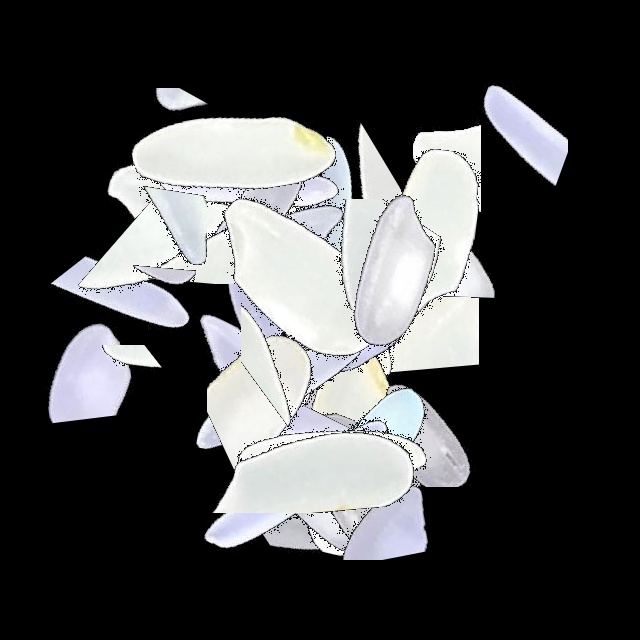Broken: (314, 318, 564, 487), (0, 212, 163, 462), (0, 246, 250, 401), (65, 196, 315, 349), (182, 360, 432, 513), (192, 355, 442, 506), (368, 96, 517, 346), (235, 199, 485, 344), (207, 270, 352, 520), (259, 357, 509, 501), (250, 418, 500, 560), (250, 368, 391, 618), (242, 320, 381, 570), (313, 127, 450, 377), (347, 178, 479, 428), (285, 109, 417, 359), (449, 16, 568, 266), (92, 165, 342, 284), (91, 121, 207, 371), (192, 175, 442, 284), (260, 345, 368, 595), (241, 219, 346, 469), (283, 335, 384, 585), (382, 52, 481, 302), (0, 265, 250, 362), (42, 88, 292, 178), (228, 336, 478, 421), (104, 201, 189, 451), (331, 363, 409, 613), (0, 345, 250, 422)
Full: (191, 109, 441, 359), (145, 262, 395, 512), (151, 277, 401, 527), (78, 88, 328, 338), (227, 327, 477, 577), (212, 372, 462, 622), (181, 225, 431, 475), (123, 61, 373, 311), (224, 356, 474, 606), (145, 112, 395, 362), (228, 196, 478, 446), (127, 87, 377, 337), (144, 161, 394, 411), (107, 27, 357, 277), (155, 270, 405, 520), (175, 150, 425, 400), (302, 116, 552, 366), (173, 357, 423, 607), (272, 145, 522, 395), (209, 342, 459, 592)
